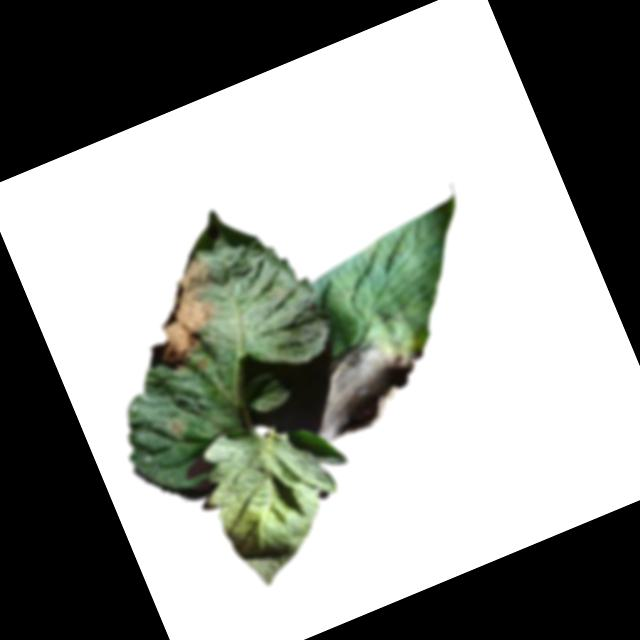Late_blight: (292, 322, 442, 447), (114, 247, 243, 382), (161, 414, 191, 444)
healthy: (186, 393, 380, 595)
